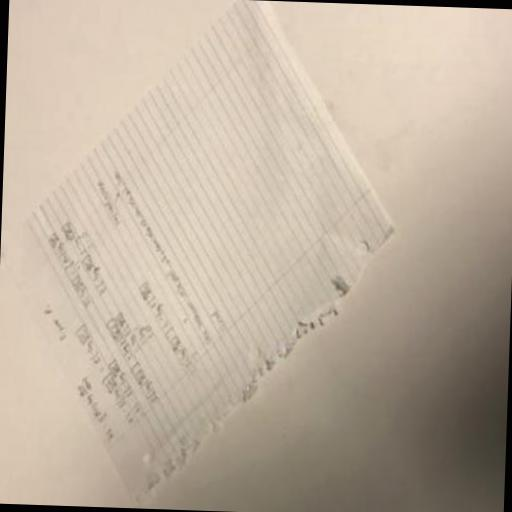paper: (0, 0, 399, 508)
